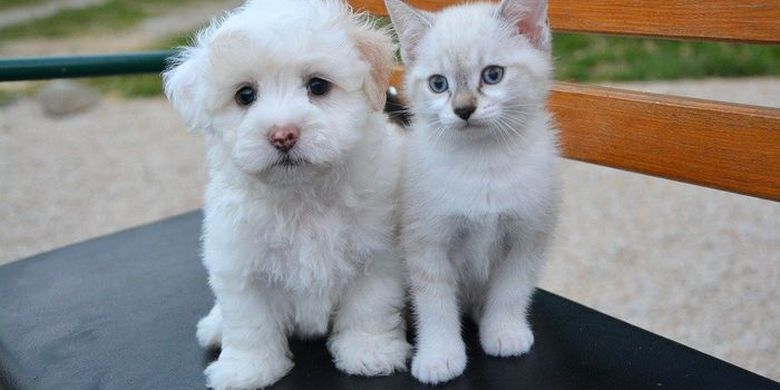anjing: (167, 0, 406, 383)
kucing: (394, 0, 559, 382)
